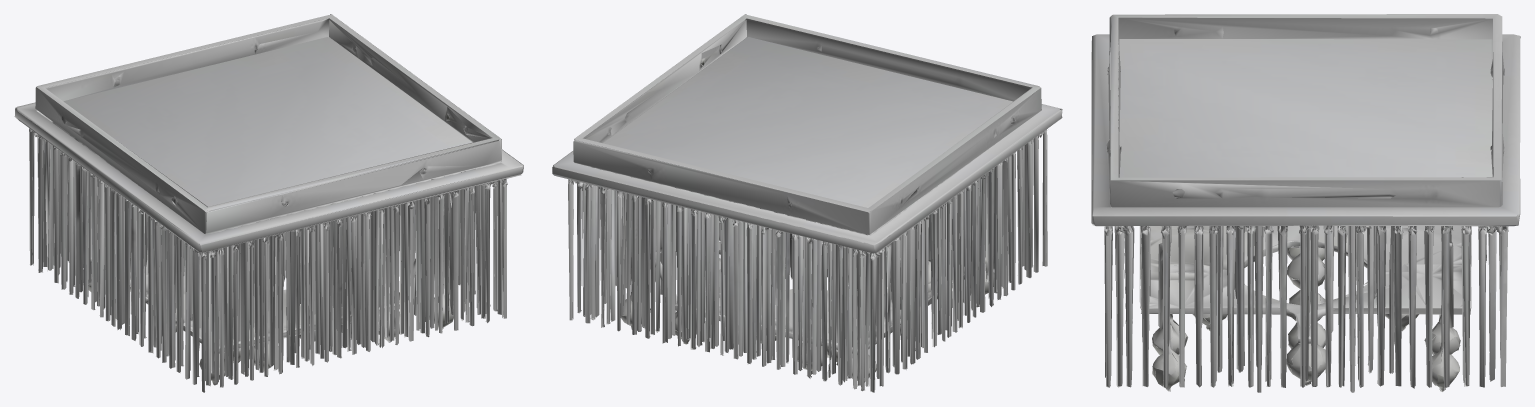
File: chandelier.glb
3 renders of one model, left to right at view 1: azimuth 30°, elevation 25°; view 2: azimuth 150°, elevation 25°; view 3: azimuth 270°, elevation 25°, orthographic. The views are drawn at different scales.
Visible parts, largest first — view 1: material; view 2: material; view 3: material.
Boxes of the visible parts, box(x1,y1,x2,y2) form: material: box(14, 14, 523, 392); material: box(552, 14, 1062, 392); material: box(1091, 14, 1520, 392).
Bounding box in the file's own units: 0.8124 × 0.4917 × 0.8113.
Materials: 1 (1 with a texture image).
